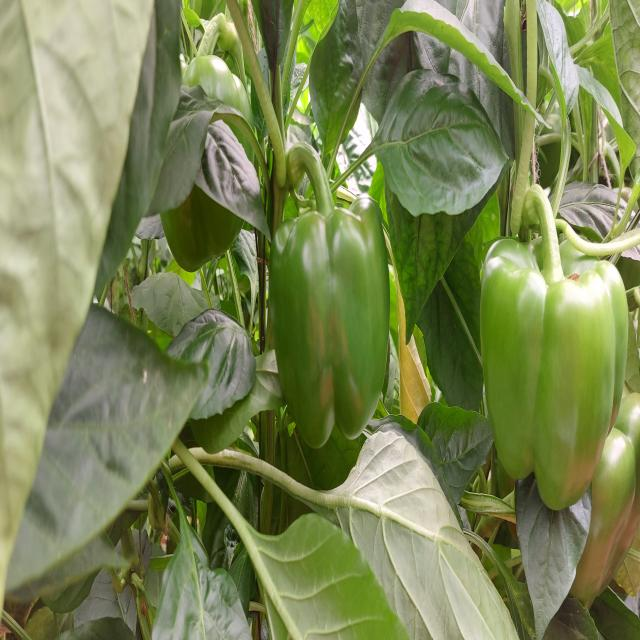Green--Not-ready-to-harvest: (484, 230, 629, 504), (267, 206, 402, 450)
